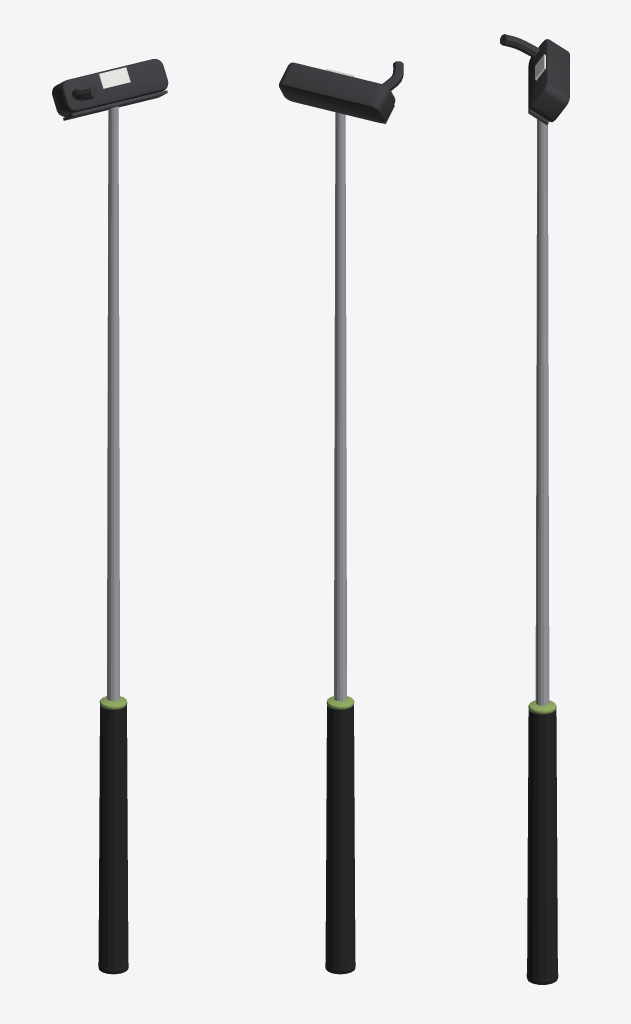
Rendered from pf_putter_blade.glb.
3 views of the same model, side by side, from view 1: azimuth 30°, elevation 25°; view 2: azimuth 150°, elevation 25°; view 3: azimuth 270°, elevation 25° (orthographic). The views are drawn at different scales.
Parts seen in each view (by area): view 1: pf_putter_blade_body.001; view 2: pf_putter_blade_body.001; view 3: pf_putter_blade_body.001.
Part boxes in pixels (x1,y1,x2,y2): pf_putter_blade_body.001: [52, 59, 168, 974]; pf_putter_blade_body.001: [279, 61, 403, 974]; pf_putter_blade_body.001: [500, 34, 569, 984].
Bounding box in the file's own units: 0.13 × 0.9 × 0.13.
8 materials, 1 textured.
